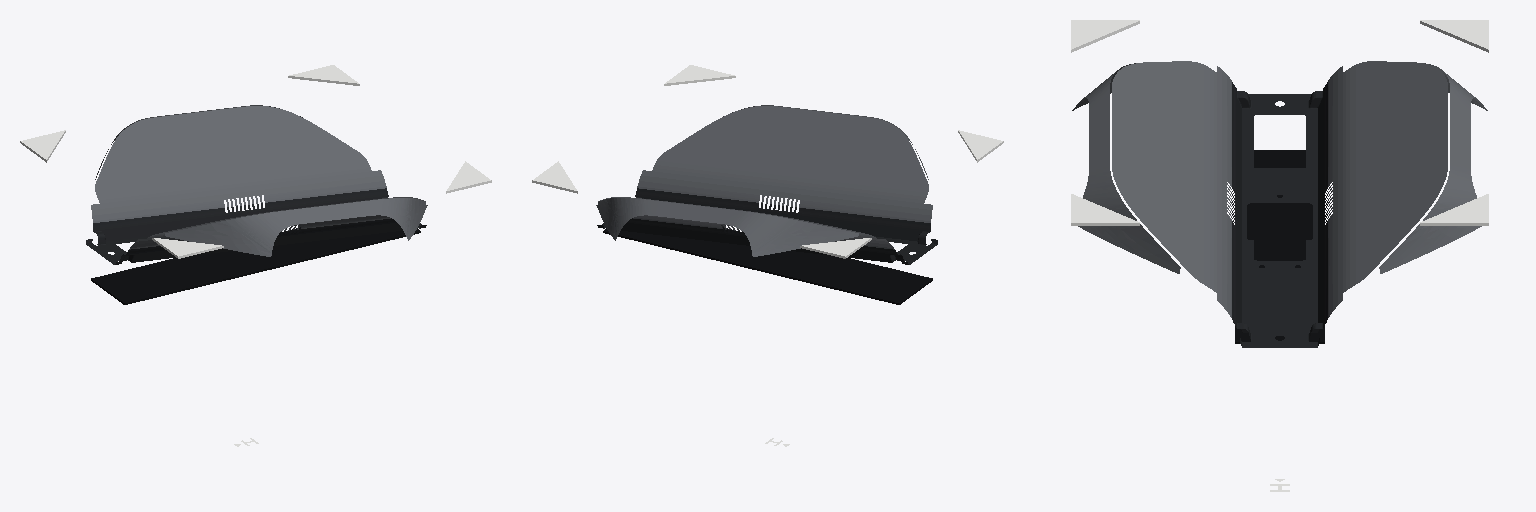
The robot description file, URDF, robot "dock3_pad":
<?xml version='1.0' encoding='utf-8'?>
<!--
The MIT License (MIT)
Copyright © 2026 Swarm

Permission is hereby granted, free of charge, to any person obtaining a copy of this software and associated
documentation files (the “Software”), to deal in the Software without restriction, including without limitation
the rights to use, copy, modify, merge, publish, distribute, sublicense, and/or sell copies of the Software,
and to permit persons to whom the Software is furnished to do so, subject to the following conditions:

The above copyright notice and this permission notice shall be included in all copies or substantial portions of
the Software.

THE SOFTWARE IS PROVIDED “AS IS”, WITHOUT WARRANTY OF ANY KIND, EXPRESS OR IMPLIED, INCLUDING BUT NOT LIMITED TO
THE WARRANTIES OF MERCHANTABILITY, FITNESS FOR A PARTICULAR PURPOSE AND NONINFRINGEMENT. IN NO EVENT SHALL
THE AUTHORS OR COPYRIGHT HOLDERS BE LIABLE FOR ANY CLAIM, DAMAGES OR OTHER LIABILITY, WHETHER IN AN ACTION
OF CONTRACT, TORT OR OTHERWISE, ARISING FROM, OUT OF OR IN CONNECTION WITH THE SOFTWARE OR THE USE OR OTHER
DEALINGS IN THE SOFTWARE.
-->
<robot name="dock3_pad">
  <link name="base_link">
    <inertial>
      <origin rpy="0 0 0" xyz="0 0 0" />
      <mass value="0" />
      <inertia ixx="0" ixy="0" ixz="0" iyy="0" iyz="0" izz="0" />
    </inertial>
    <visual name="pad_black">
      <origin rpy="0 0 0" xyz="0 0 0" />
      <geometry>
        <mesh filename="./dock3/pad_black.obj" scale="1 1 1" />
      </geometry>
      <material name="dock3_dock_black">
        <color rgba="0.0941 0.098 0.1059 1" />
      </material>
    </visual>
    <visual name="pad_marker">
      <origin rpy="0 0 0" xyz="0 0 0" />
      <geometry>
        <mesh filename="./dock3/pad_marker.obj" scale="1 1 1" />
      </geometry>
      <material name="dock3_dock_marker">
        <color rgba="0.9569 0.9569 0.949 1" />
      </material>
    </visual>
    <visual name="pad_ramp">
      <origin rpy="0 0 0" xyz="0 0 0" />
      <geometry>
        <mesh filename="./dock3/pad_ramp.obj" scale="1 1 1" />
      </geometry>
      <material name="dock3_dock_ramp">
        <color rgba="0.4196 0.4314 0.451 1" />
      </material>
    </visual>
    <visual name="pad_strip">
      <origin rpy="0 0 0" xyz="0 0 0" />
      <geometry>
        <mesh filename="./dock3/pad_strip.obj" scale="1 1 1" />
      </geometry>
      <material name="dock3_dock_strip">
        <color rgba="0.1725 0.1804 0.1922 1" />
      </material>
    </visual>
    <collision concave="yes">
      <origin rpy="0 0 0" xyz="0 0 0" />
      <geometry>
        <mesh filename="./dock3/pad_ramp.obj" scale="1 1 1" />
      </geometry>
    </collision>
    <collision concave="yes">
      <origin rpy="0 0 0" xyz="0 0 0" />
      <geometry>
        <mesh filename="./dock3/pad_strip.obj" scale="1 1 1" />
      </geometry>
    </collision>
  </link>
</robot>

--- Facts derived from the render (not from the file) ---
Views: 3 orthographic renders of the robot side by side, from view 1: azimuth 30°, elevation 25°; view 2: azimuth 150°, elevation 25°; view 3: azimuth 270°, elevation 25°.
Model dock3_pad with 1 links and 0 joints (none), rooted at base_link, posed all joints at 0.
Visible links, largest first — view 1: base_link; view 2: base_link; view 3: base_link.
Boxes of the visible links, x1,y1,x2,y2 form: base_link: (20,65,491,446); base_link: (532,65,1003,446); base_link: (1071,20,1488,491).
Bounding box of the posed robot: 0.553 × 0.483 × 0.4844 m (x, y, z).
4 mesh visuals loaded from 4 distinct referenced files (4 OBJ).
